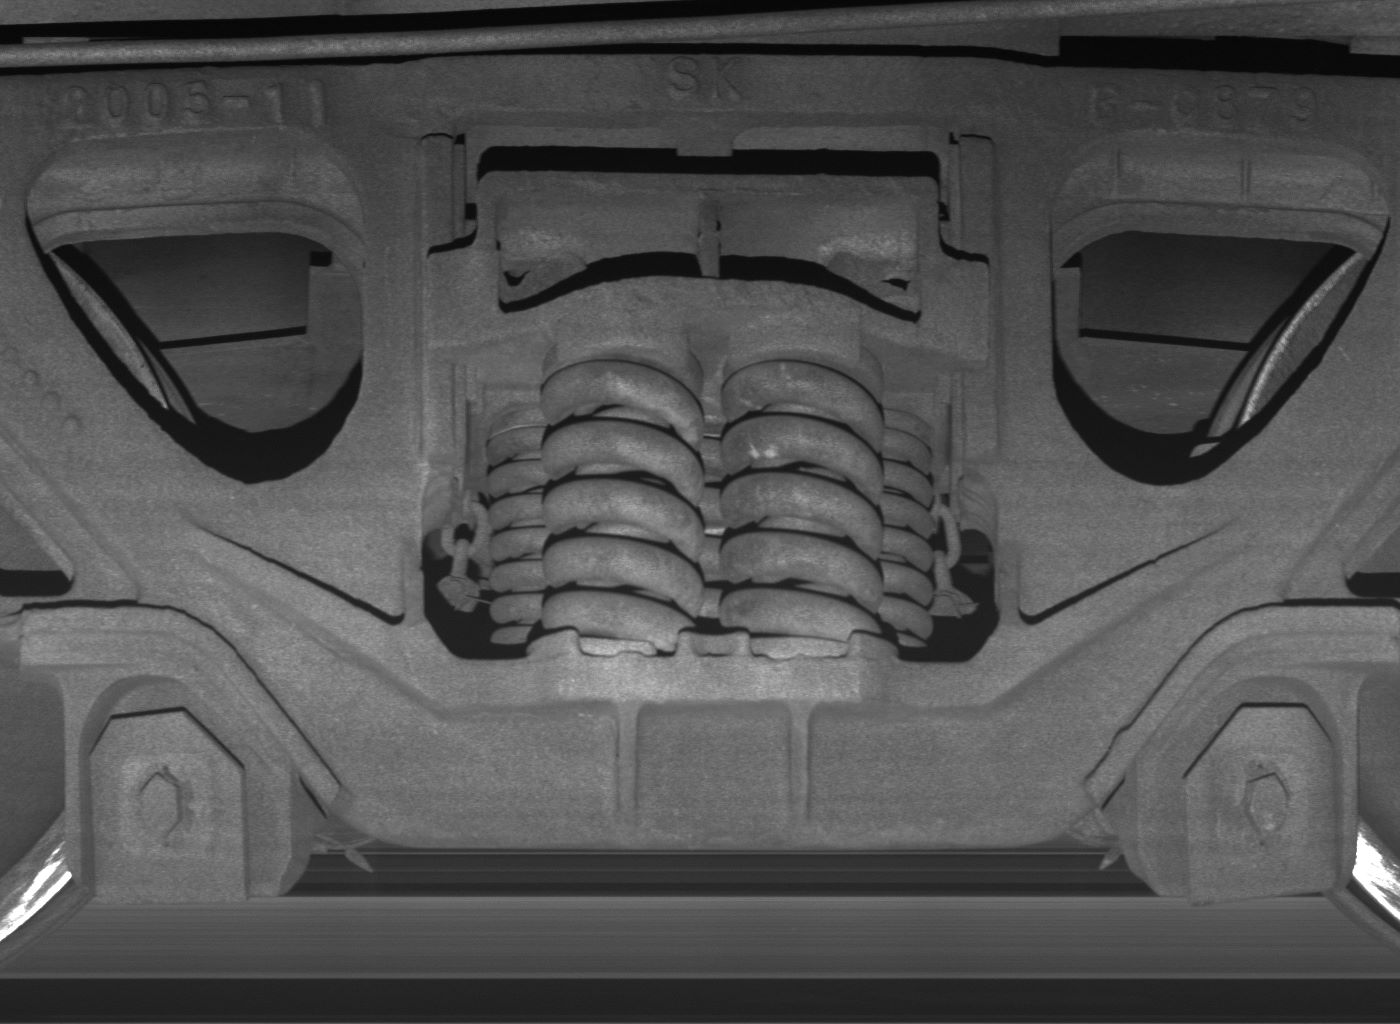normal: (1137, 666, 1360, 900), (66, 676, 293, 903)
